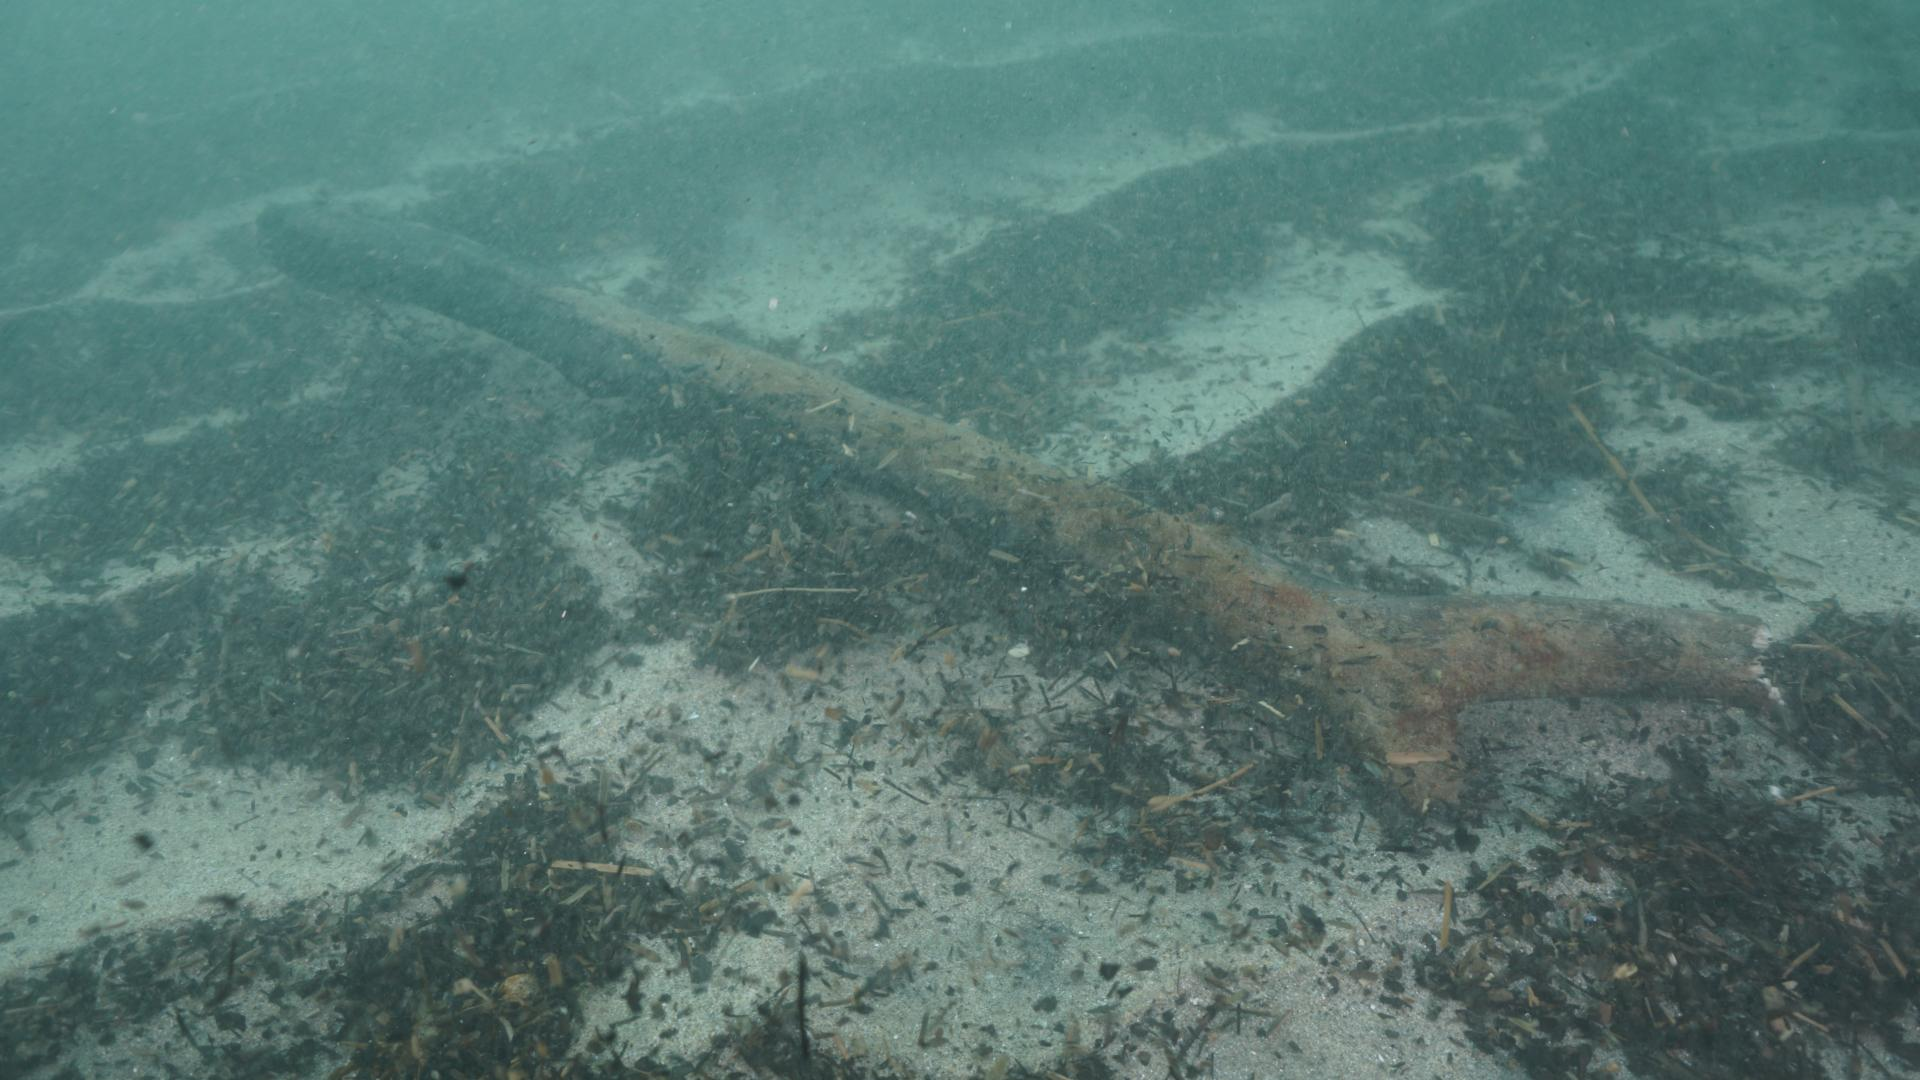wood: (251, 204, 1785, 800)
